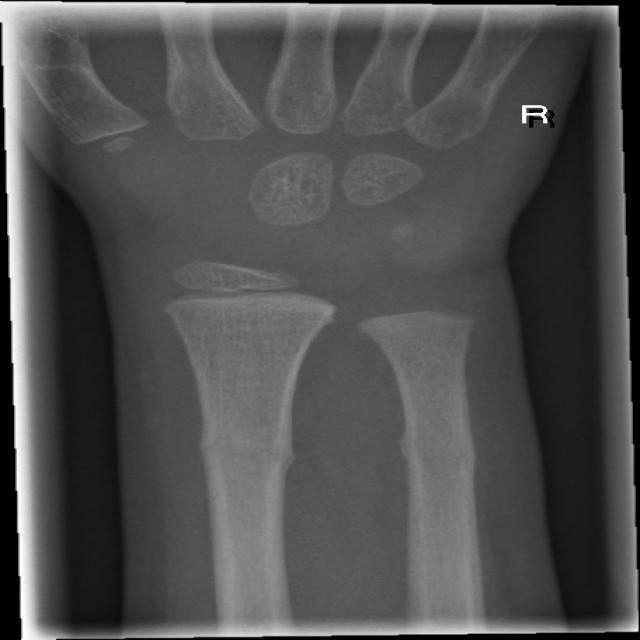radius fracture: (146, 386, 347, 564)
ulna fracture: (370, 389, 508, 546)
